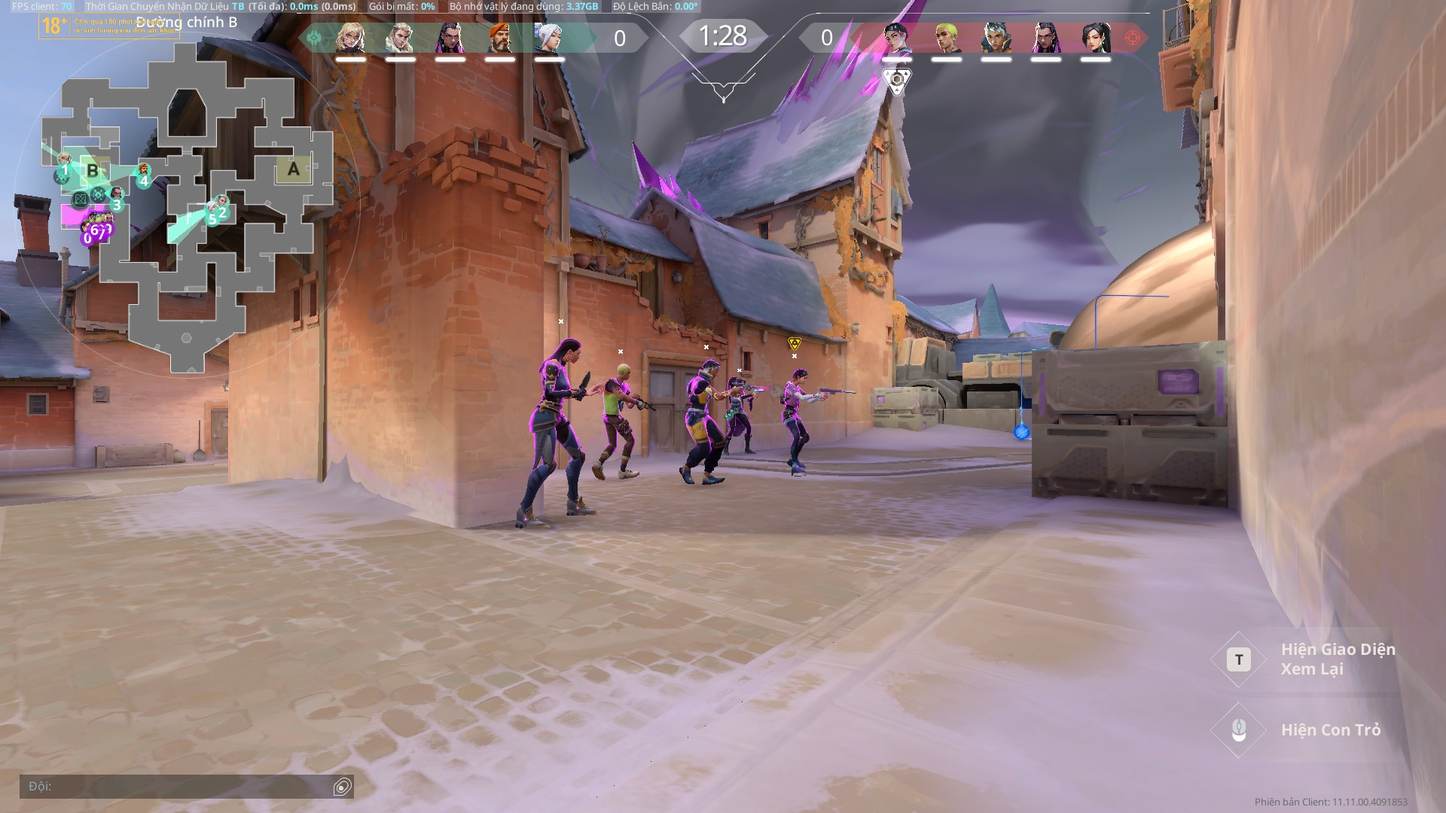body: (539, 360, 569, 406), (606, 377, 630, 419), (685, 373, 712, 409), (782, 380, 802, 413), (726, 386, 746, 412)
head: (555, 335, 578, 360), (616, 363, 637, 385), (702, 359, 718, 377), (728, 374, 745, 390), (792, 367, 806, 381)
